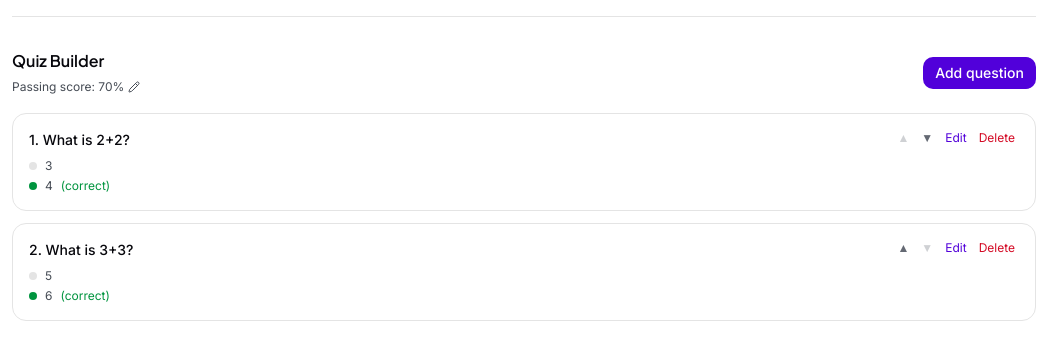
Test: QuizBuilder › cancels passing score edit without saving
The width and height of the screenshot is (1048, 344).
Click the button with aria-label "edit passing score". click: (76, 87)
box: [12, 79, 140, 95]
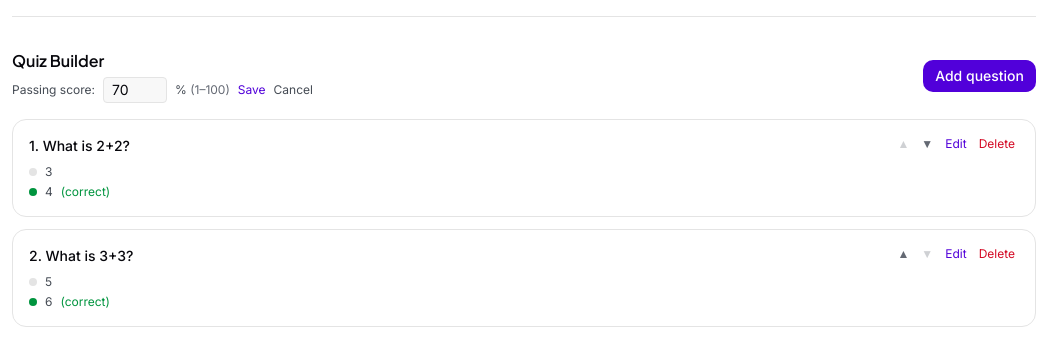
Expected: the number field named "passing score" is shown, [103, 77, 167, 103]
Click the button "Cancel". click: (293, 90)
box: [274, 82, 313, 98]
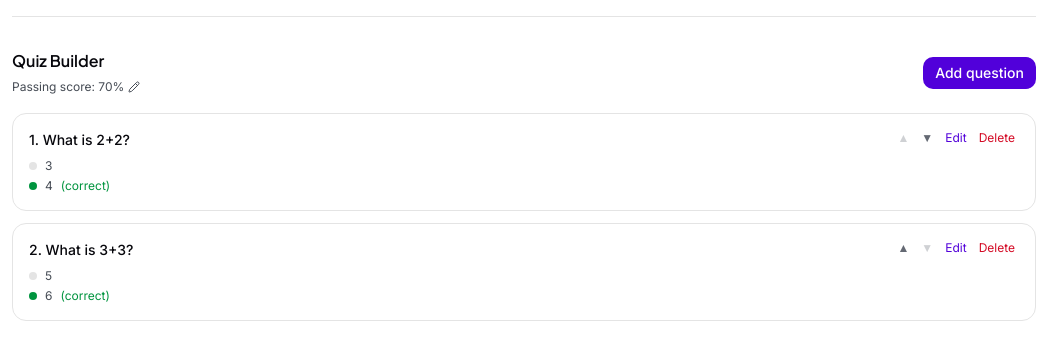
Expected: the text "Passing score: 70%" is shown, [12, 79, 124, 95]
